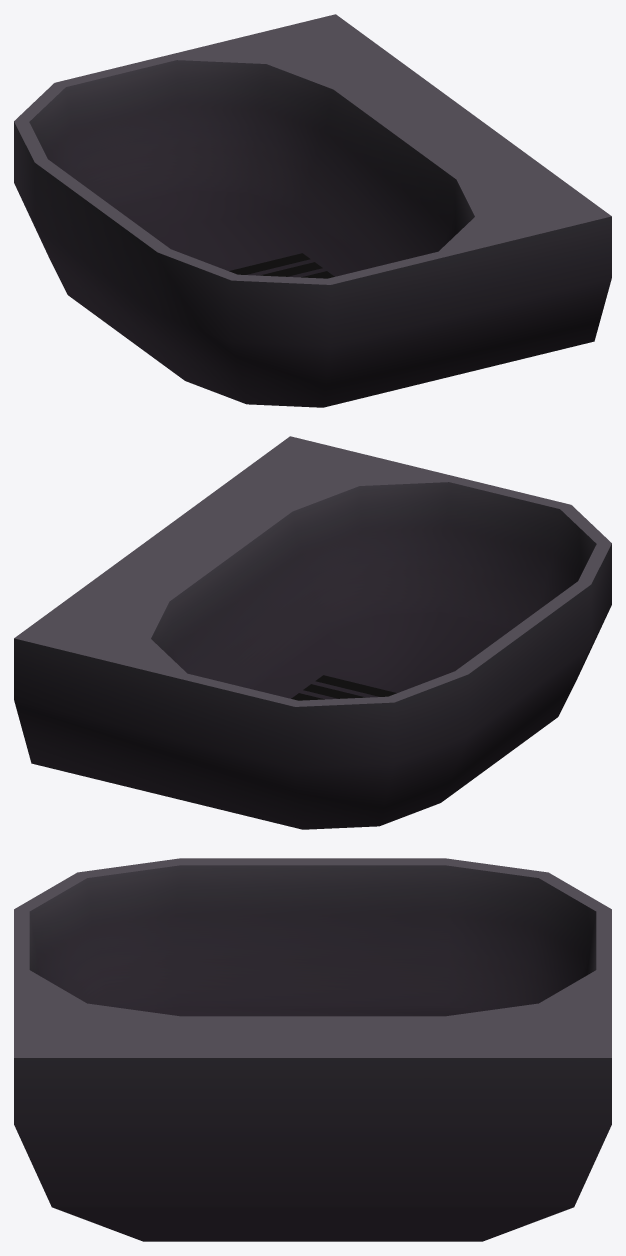
Rendered from TSP_Bathroom_Sink_02B.fbx.
3 renders of one model, top to bottom at view 1: azimuth 30°, elevation 25°; view 2: azimuth 150°, elevation 25°; view 3: azimuth 270°, elevation 25°, orthographic. The views are drawn at different scales.
Parts seen in each view (by area): view 1: TSP_Bathroom_Sink_02B; view 2: TSP_Bathroom_Sink_02B; view 3: TSP_Bathroom_Sink_02B.
Boxes of the visible parts, left/top/right/bottom form: TSP_Bathroom_Sink_02B: left=14, top=14, right=611, bottom=407; TSP_Bathroom_Sink_02B: left=14, top=436, right=611, bottom=829; TSP_Bathroom_Sink_02B: left=14, top=858, right=611, bottom=1241.
Bounding box in the file's own units: 0.575 × 0.2467 × 0.7282.
